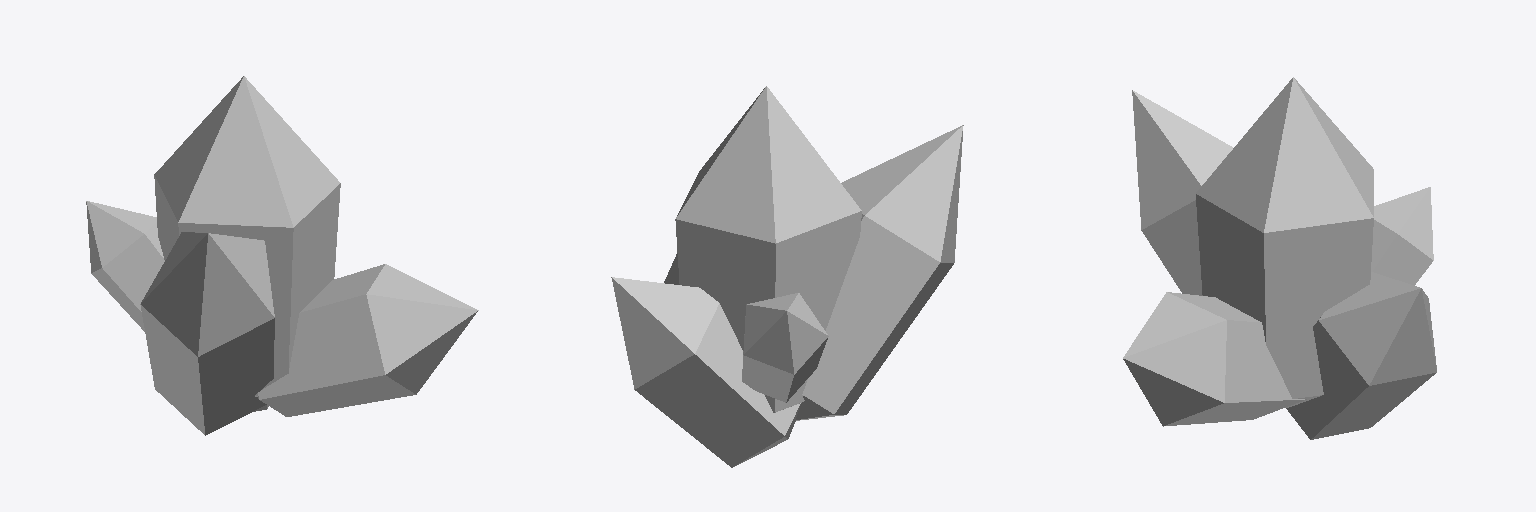
File: crystal 3l.obj
3 renders of one model, left to right at view 1: azimuth 30°, elevation 25°; view 2: azimuth 150°, elevation 25°; view 3: azimuth 270°, elevation 25°, orthographic.
Parts seen in each view (by area): view 1: Cylinder.007; view 2: Cylinder.007; view 3: Cylinder.007.
Boxes of the visible parts, x1,y1,x2,y2 form: Cylinder.007: [86, 76, 478, 435]; Cylinder.007: [611, 86, 963, 467]; Cylinder.007: [1123, 77, 1436, 439].
Bounding box in the file's own units: 6.81 × 7.99 × 6.45.